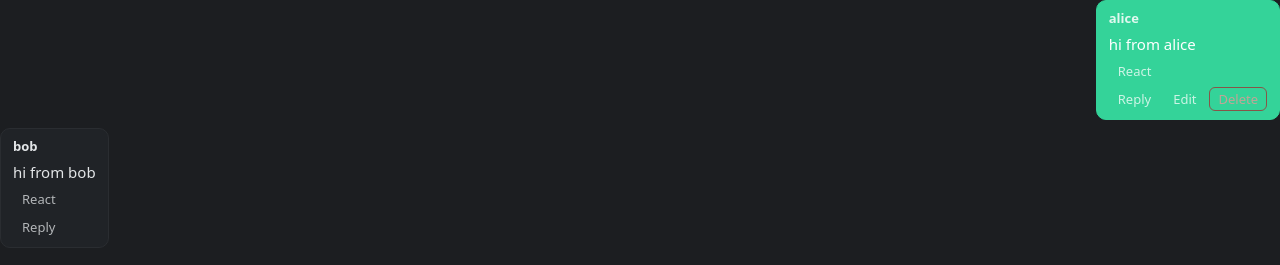
Test case: MessageList › clicking React opens a fixed emoji picker, and picking one toggles it and closes the picker
Click the button "React" below "hi from alice".
click(1135, 71)  # box [1109,59,1160,83]
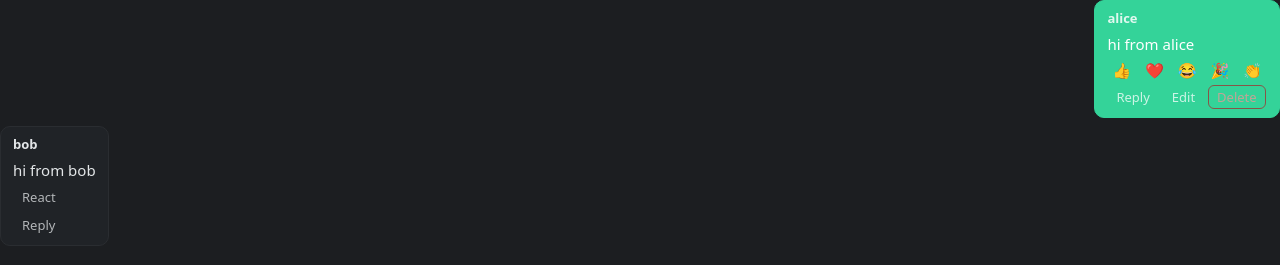
Click the button named "Heart".
click(1154, 70)  # box [1140,59,1169,81]
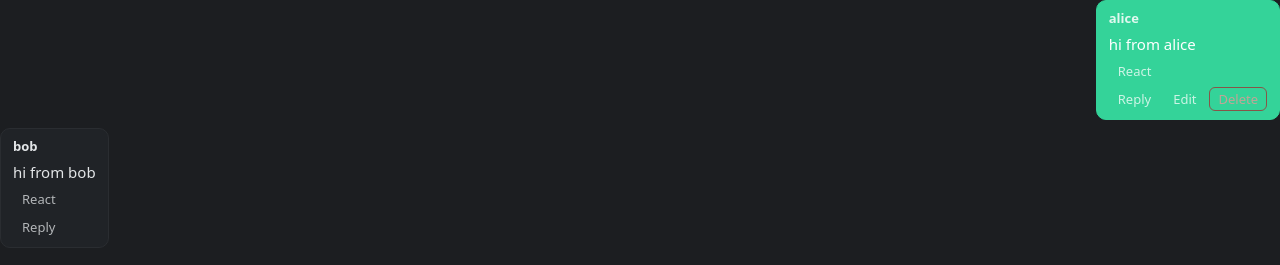
Expected: the button "Heart" is gone
